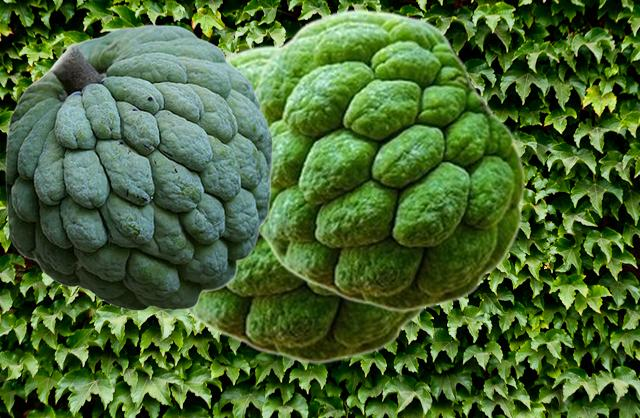atis: (253, 8, 525, 311), (182, 44, 428, 363), (5, 24, 272, 310)
